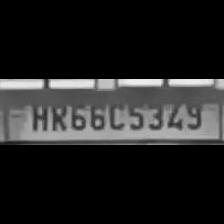3: (144, 96, 164, 130)
4: (165, 97, 183, 131)
5: (124, 96, 144, 130)
6: (66, 96, 86, 132), (86, 96, 106, 132)
9: (182, 96, 204, 130)
C: (106, 97, 124, 131)
H: (27, 96, 50, 132)
R: (48, 98, 65, 132)
